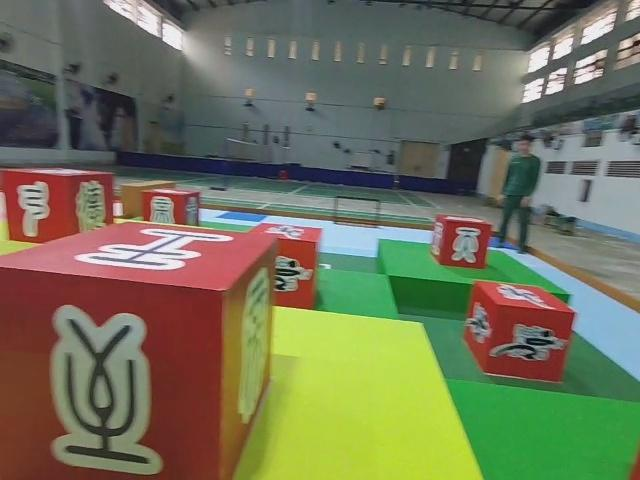R1: (465, 281, 577, 381), (237, 220, 324, 314)
R2 Fake: (0, 220, 276, 479), (2, 167, 115, 244), (431, 215, 493, 268), (141, 188, 201, 240)
